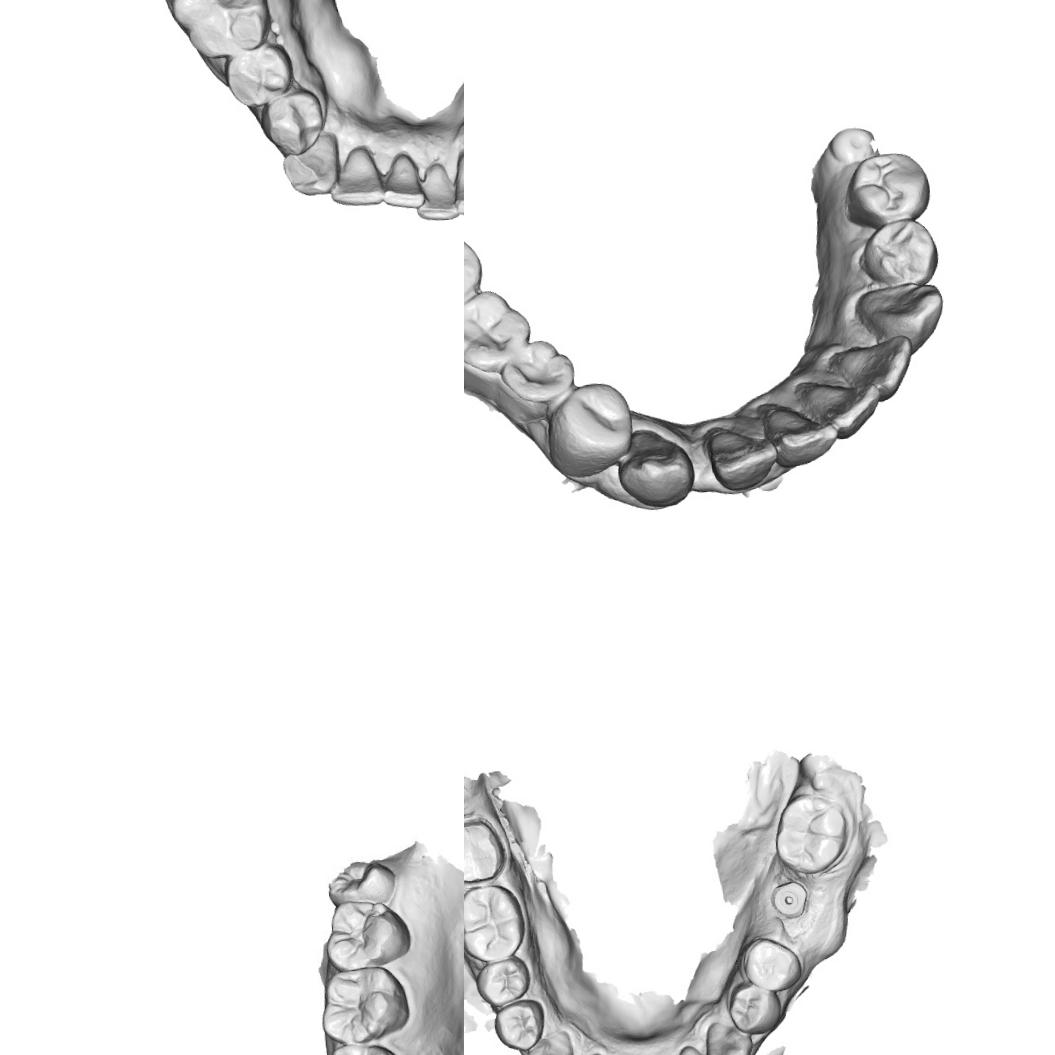canine: (615, 426, 696, 510), (855, 281, 943, 352), (279, 137, 342, 200), (706, 1014, 755, 1055), (523, 1027, 576, 1055)
crown: (464, 811, 508, 889)
implant: (828, 121, 878, 164), (766, 876, 810, 922)
incisor: (800, 367, 878, 439), (708, 418, 780, 490), (773, 403, 844, 469), (844, 333, 910, 393), (328, 144, 386, 212), (412, 158, 460, 224), (378, 150, 427, 212), (450, 148, 464, 217), (669, 1041, 717, 1055)
molar: (316, 962, 414, 1047), (318, 892, 414, 974), (768, 790, 852, 878), (165, 0, 273, 64), (464, 282, 534, 378), (464, 881, 528, 965), (324, 855, 400, 907)
premolar: (548, 380, 632, 472), (846, 148, 932, 225), (499, 334, 578, 416), (861, 213, 940, 289), (222, 40, 296, 110), (261, 88, 327, 158), (739, 932, 805, 996), (471, 955, 534, 1009), (490, 996, 548, 1053), (725, 982, 784, 1037), (325, 1034, 405, 1055)
